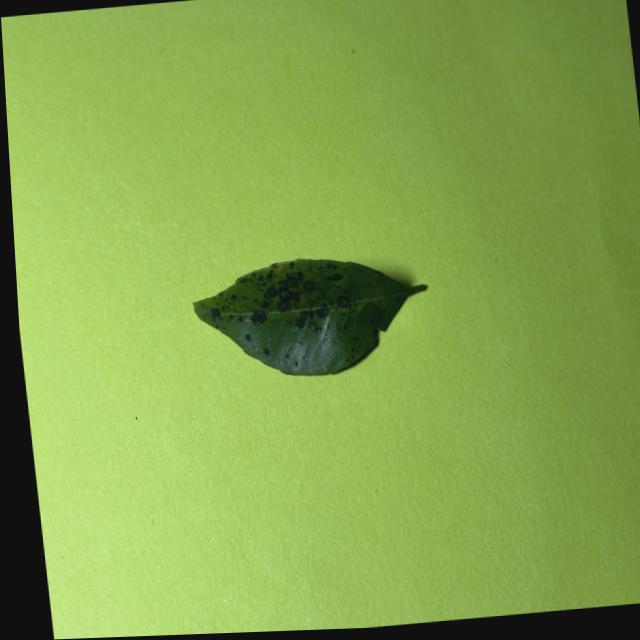sooty_mold: (194, 258, 426, 374)
